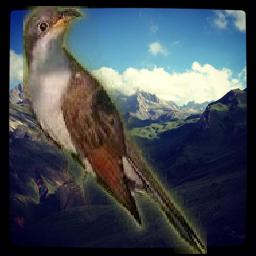Cuckoo: (23, 6, 207, 254)
